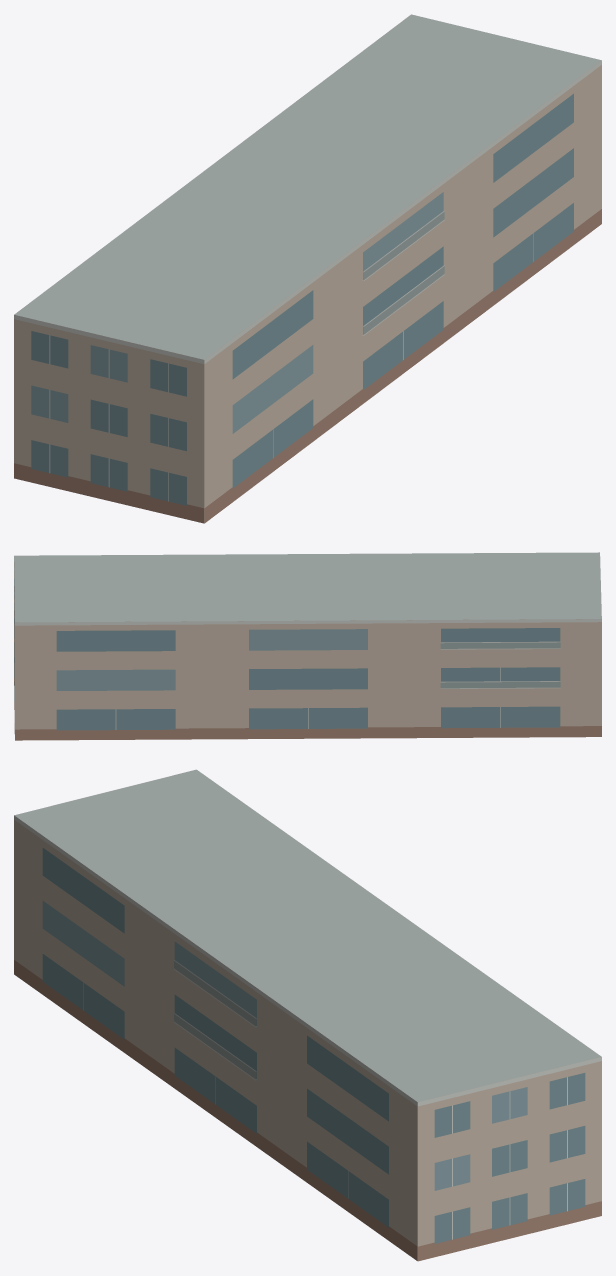
Rendered from survey-upis-32719417.glb.
3 renders of one model, top to bottom at view 1: azimuth 30°, elevation 25°; view 2: azimuth 150°, elevation 25°; view 3: azimuth 270°, elevation 25°, orthographic. The views are drawn at different scales.
Visible parts, largest first — view 1: survey-upis-32719417.tmp; view 2: survey-upis-32719417.tmp; view 3: survey-upis-32719417.tmp.
Part boxes in pixels (x1,y1,x2,y2): survey-upis-32719417.tmp: [14, 14, 601, 523]; survey-upis-32719417.tmp: [14, 552, 601, 740]; survey-upis-32719417.tmp: [14, 769, 601, 1261].
Bounding box in the file's own units: 41.05 × 9.15 × 30.64.
